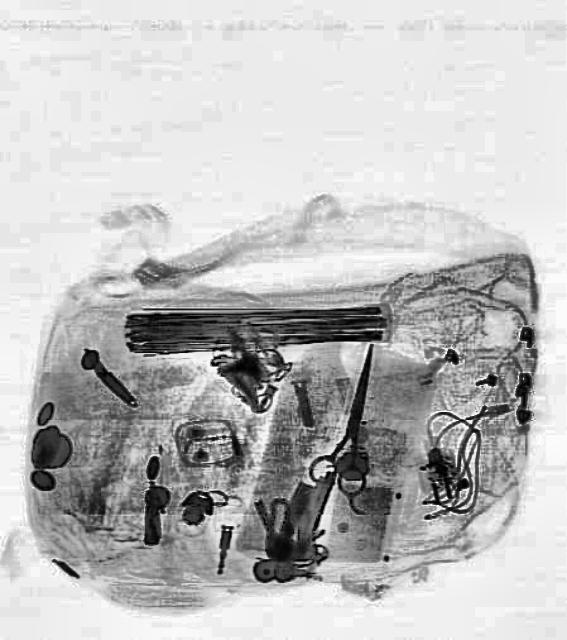Scissors: (304, 335, 400, 499)
